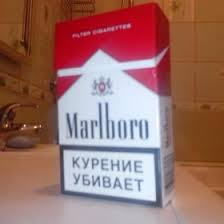marlboro: (56, 14, 161, 205)
